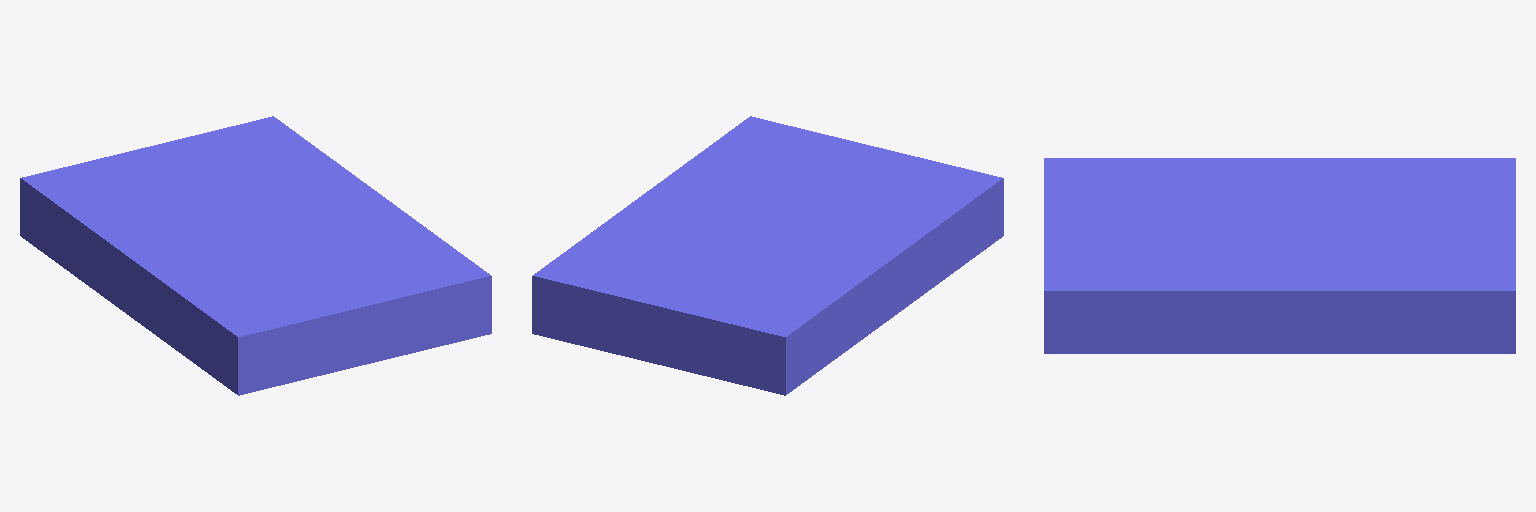
robot.urdf — pallet2_gazebo:
<?xml version="1.0" encoding="utf-8"?>
<!-- This URDF was automatically created by SolidWorks to URDF Exporter! Originally created by [author] ([email redacted]) 
     Commit Version: 1.5.1-0-g916b5db  Build Version: 1.5.7152.31018
     For more information, please see http://wiki.ros.org/sw_urdf_exporter -->
<robot name="pallet2_gazebo">

	<link name="world" />

	<joint name="fixed4" type="fixed">
		<parent link="world"/>
		<child link="sup_pallet_2"/>
		<origin xyz="-0.507 -1.1276 0" rpy="0.0 0.0 0"/>
	</joint>

	<link name="sup_pallet_2">
		<inertial>
			<!-- <origin xyz="1.1327E-16 -3.3286E-17 0.66019" rpy="0 0 0" /> -->
			<origin xyz="0.60 0.40 0.08" rpy="0 0 0" />
			<mass value="40" />
			<inertia ixx="7.5972" ixy="0" ixz="0" iyy="0.99673" iyz="0" izz="8.1168" />
		</inertial>
		<visual>
			<origin xyz="0.0 0.0 0.0" rpy="0 0 0" />
			<geometry>
				<mesh filename="package://demo_world/meshes/sup_pallet.stl" />
			</geometry>
			<material name="white">
				<color rgba="0.5 0.5 1 1" />
			</material>
		</visual>
	</link>

</robot>

--- What the picture shows (computed from the rendered views, not written in the file) ---
3 views of the same robot in one strip: view 1: azimuth 30°, elevation 25°; view 2: azimuth 150°, elevation 25°; view 3: azimuth 270°, elevation 25° (orthographic).
Model pallet2_gazebo with 2 links and 1 joints (1 fixed), rooted at world, posed all joints at 0.
Links seen in each view (by area): view 1: sup_pallet_2; view 2: sup_pallet_2; view 3: sup_pallet_2.
Link boxes in pixels (x1,y1,x2,y2): sup_pallet_2: (20, 116, 491, 395); sup_pallet_2: (532, 116, 1003, 395); sup_pallet_2: (1044, 158, 1515, 353).
Size in the robot's own frame: 0.8047 by 1.2 by 0.1772 metres.
1 mesh visuals loaded from 1 distinct referenced files (1 binary STL).